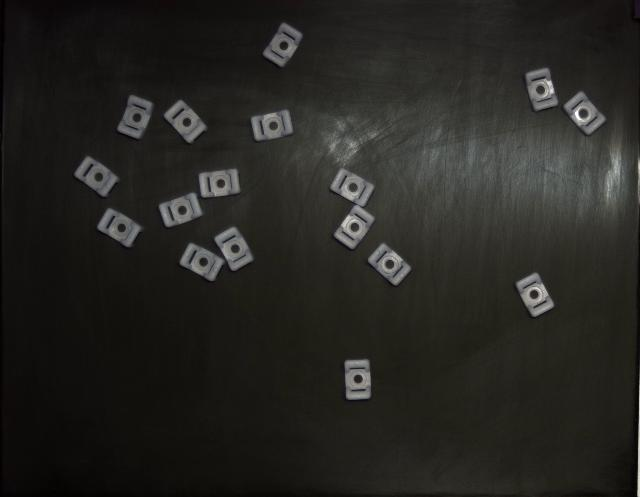first_side: (562, 91, 606, 135), (164, 100, 208, 144), (74, 156, 120, 198), (334, 205, 375, 250), (262, 22, 302, 68), (368, 244, 411, 286), (515, 272, 554, 318), (330, 169, 375, 208), (98, 209, 142, 248), (215, 228, 254, 271), (180, 244, 225, 281), (118, 95, 154, 139), (525, 68, 559, 111), (159, 194, 202, 228), (251, 110, 294, 141), (199, 169, 241, 199), (345, 360, 371, 400)
